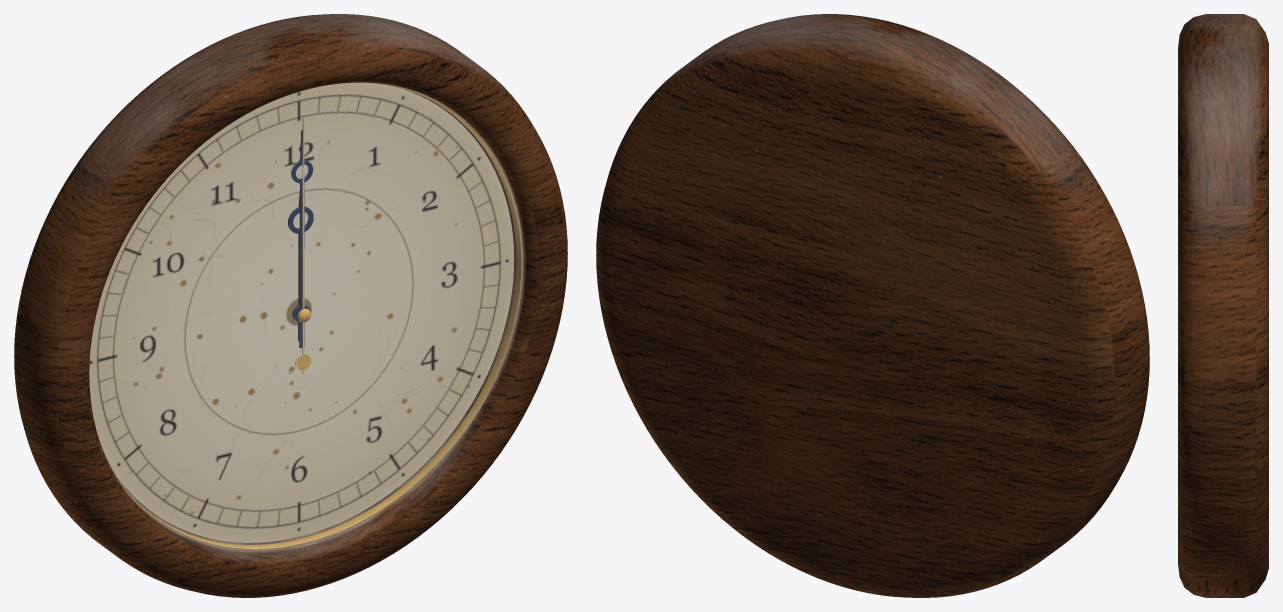
The model's file is corner_clock.glb.
3 renders of one model, left to right at view 1: azimuth 30°, elevation 25°; view 2: azimuth 150°, elevation 25°; view 3: azimuth 270°, elevation 25°, orthographic. The views are drawn at different scales.
Visible parts, largest first — view 1: ClockBody, HandMinute, HandSecond; view 2: ClockBody; view 3: ClockBody.
Boxes of the visible parts, x1,y1,x2,y2 form: ClockBody: (14, 14, 567, 597); HandMinute: (291, 130, 313, 348); HandSecond: (295, 117, 311, 374); ClockBody: (596, 14, 1149, 597); ClockBody: (1178, 14, 1268, 597).
Size of the model in its own units: 0.28 by 0.28 by 0.0435.
Materials: 5 (4 with a texture image).
